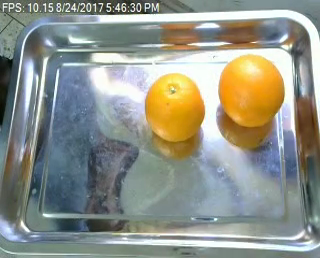Orange: (216, 54, 285, 126), (143, 72, 204, 141)
